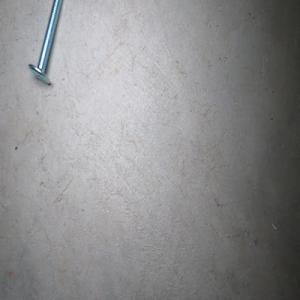Bolt: (27, 0, 63, 84)
